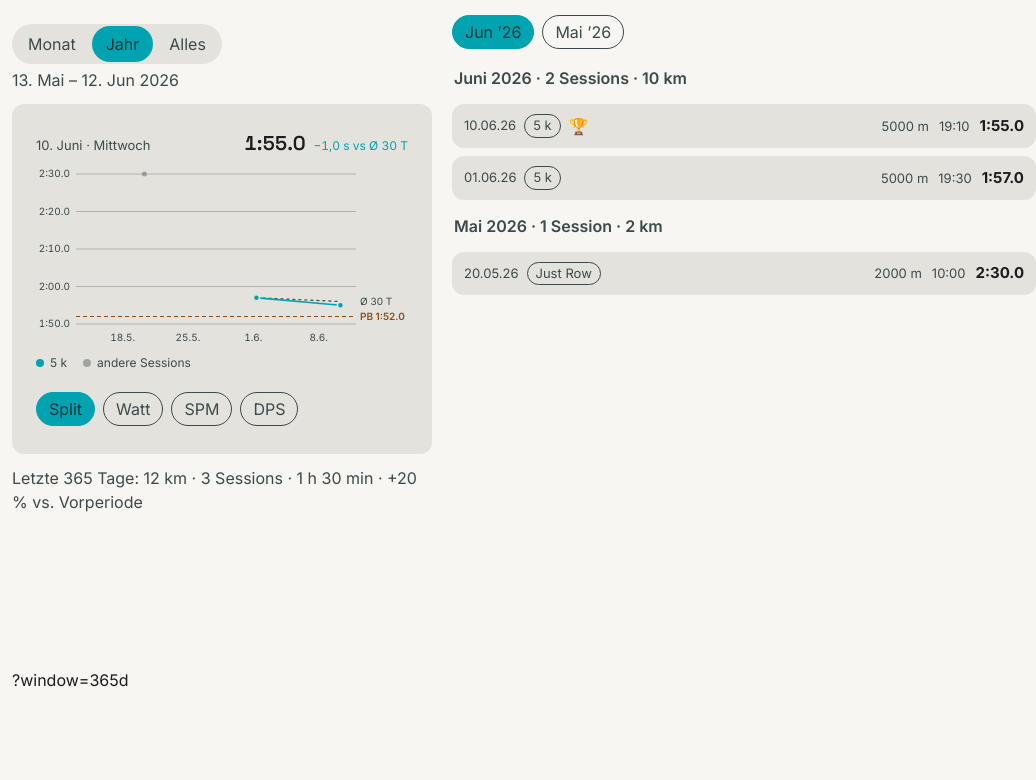
Test: VerlaufTab › empty Monat after a break (#50) › tapping Monat after the switch shows the empty state, no loop
Click the tab "Monat": (52, 44) [14,26,90,62]
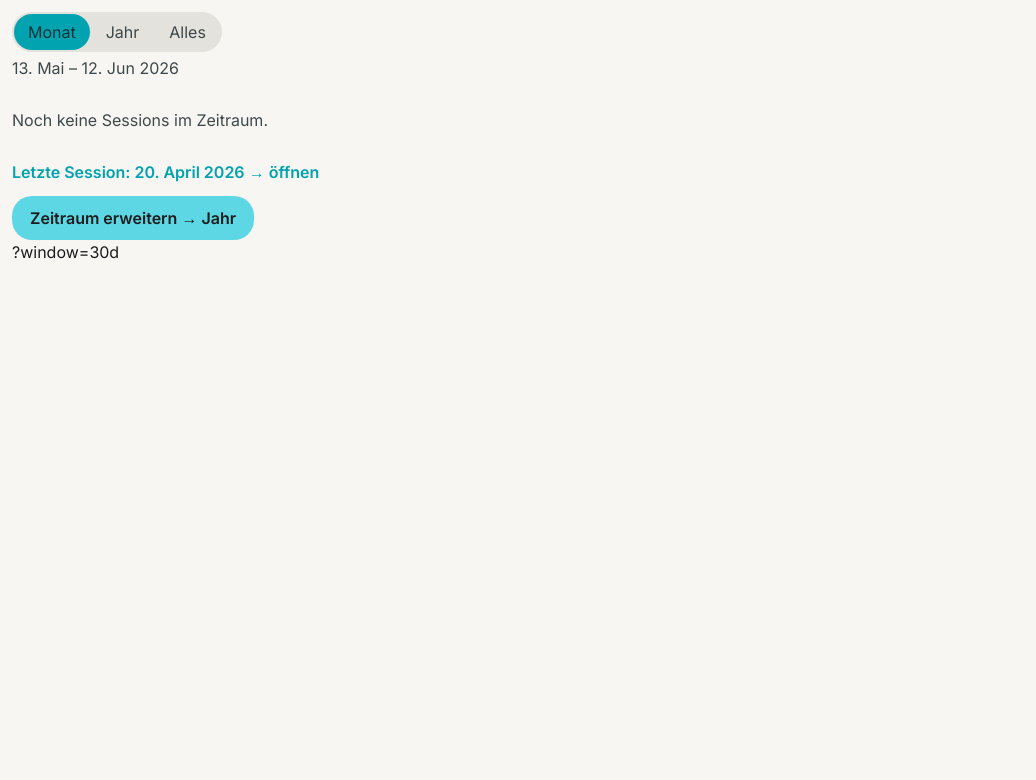
Expected: the element with test id "verlauf-empty" is shown, [12,110,319,240]
Expected: the text with test id "search" reads "?window=30d", [12,242,119,262]
